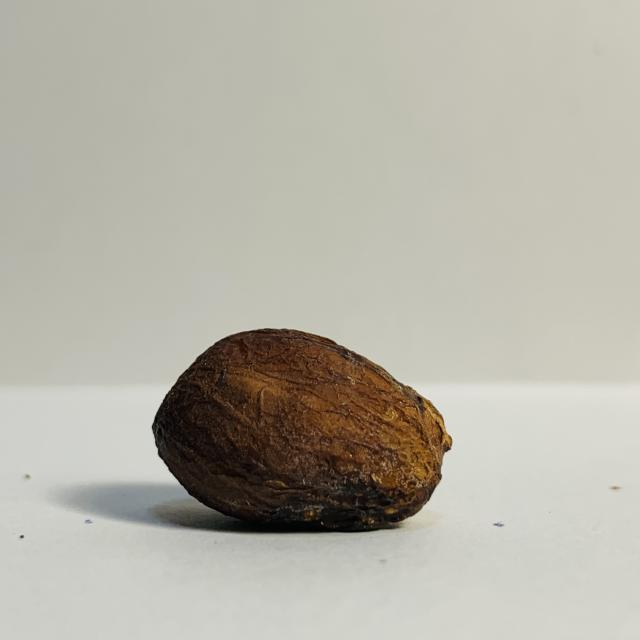Fine_cocoabeans: (62, 308, 470, 560)
